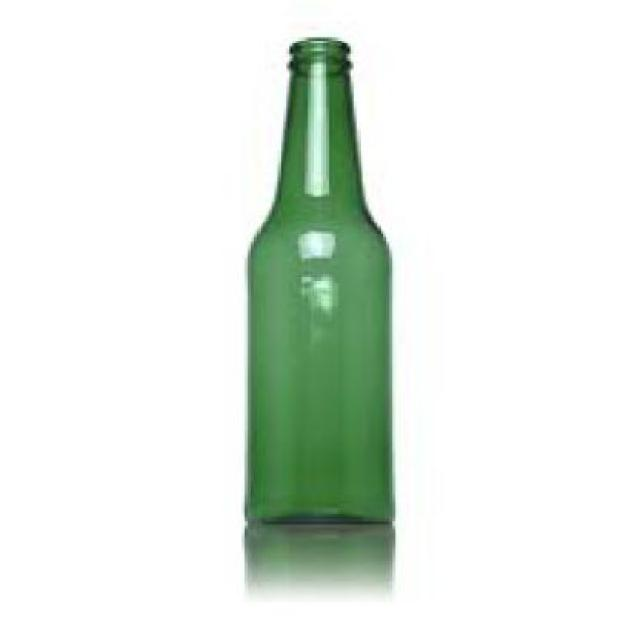GLASS: (245, 35, 392, 527)
